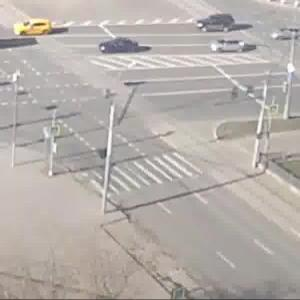car: (200, 13, 248, 39), (97, 35, 142, 57), (12, 15, 59, 36), (211, 38, 245, 53), (269, 27, 300, 43)
